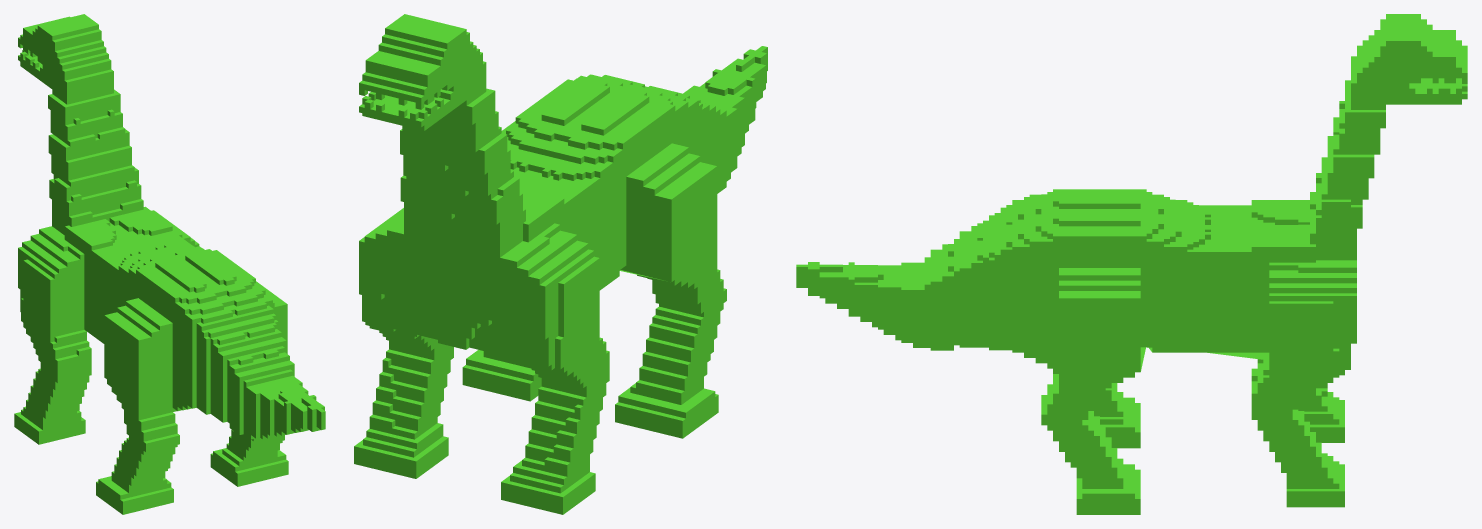
File: Apatosurus.fbx
3 renders of one model, left to right at view 1: azimuth 30°, elevation 25°; view 2: azimuth 150°, elevation 25°; view 3: azimuth 270°, elevation 25°, orthographic. The views are drawn at different scales.
Visible parts, largest first — view 1: apatosaurus; view 2: apatosaurus; view 3: apatosaurus.
Part boxes in pixels (x1,y1,x2,y2): apatosaurus: [14, 14, 325, 514]; apatosaurus: [354, 14, 767, 514]; apatosaurus: [796, 14, 1467, 514].
Bounding box in the file's own units: 440 × 937 × 1298.
